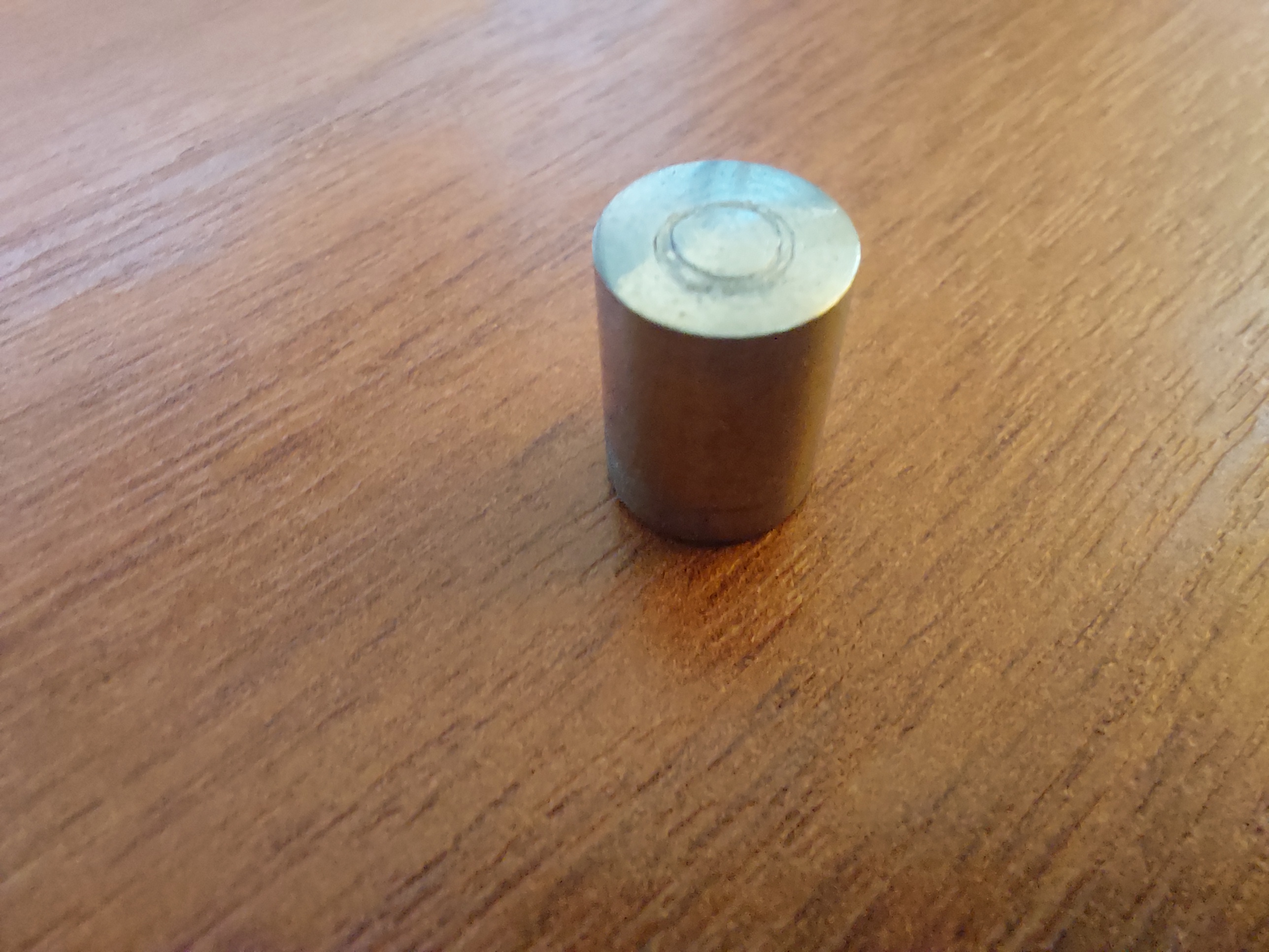tablet: (568, 156, 893, 568)
